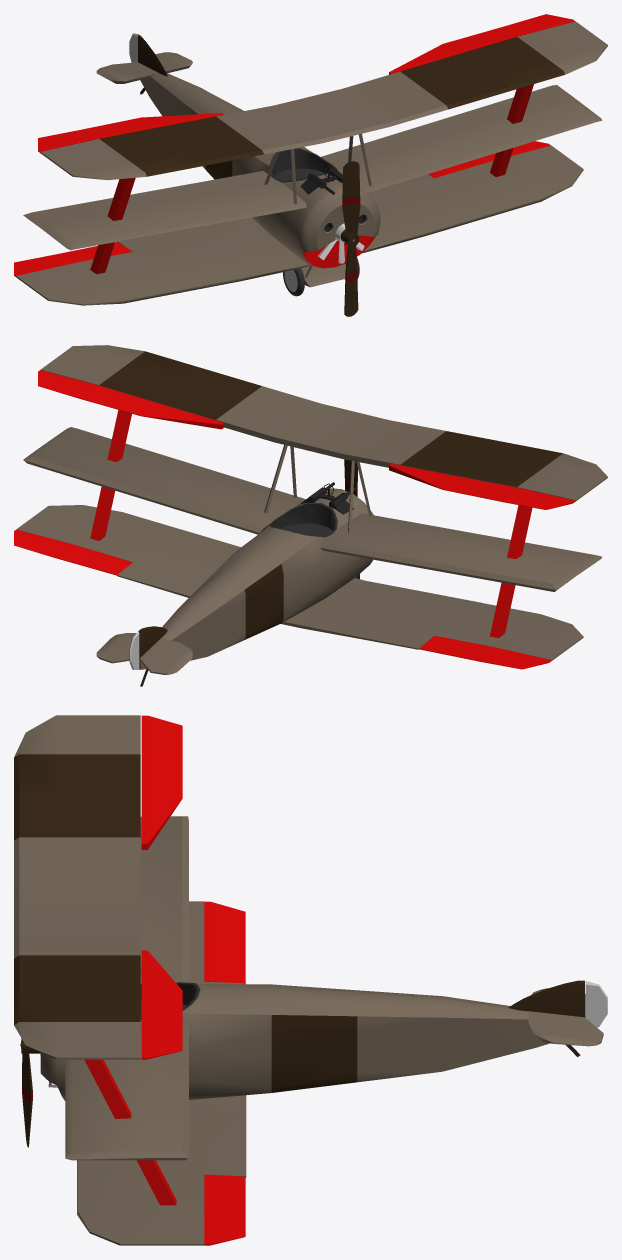
The model's file is Fokker DR.1.fbx.
The picture shows the model from 3 angles, top to bottom: view 1: azimuth 30°, elevation 25°; view 2: azimuth 150°, elevation 25°; view 3: azimuth 270°, elevation 25°; orthographic projection. The views are drawn at different scales.
Parts seen in each view (by area): view 1: Plane Body, Aerilion.003, Prop, Supports, Aerilion.002, Aerilion.001, Aerilion, Wheel; view 2: Plane Body, Supports, Aerilion.003, Aerilion.002, Aerilion, Aerilion.001; view 3: Plane Body, Aerilion.002, Aerilion.003, Aerilion.001, Aerilion, Supports, Prop, Rudder.
Boxes of the visible parts, box(x1,y1,x2,y2) form: Plane Body: box(16, 21, 607, 305); Aerilion.003: box(389, 14, 574, 74); Prop: box(340, 161, 360, 316); Supports: box(90, 84, 533, 274); Aerilion.002: box(38, 113, 223, 152); Aerilion.001: box(14, 242, 132, 276); Aerilion: box(428, 141, 550, 178); Wheel: box(283, 268, 304, 296); Plane Body: box(16, 345, 607, 686); Supports: box(90, 410, 532, 637); Aerilion.003: box(38, 370, 224, 429); Aerilion.002: box(389, 463, 575, 509); Aerilion: box(14, 529, 132, 575); Aerilion.001: box(419, 635, 551, 669); Plane Body: box(14, 715, 603, 1245); Aerilion.002: box(141, 715, 182, 849); Aerilion.003: box(141, 950, 182, 1059); Aerilion.001: box(204, 901, 245, 983); Aerilion: box(204, 1174, 245, 1245); Supports: box(84, 1059, 176, 1205); Prop: box(20, 1038, 40, 1147); Rudder: box(585, 981, 607, 1027).
Bounding box in the file's own units: 1009 × 357 × 739.
